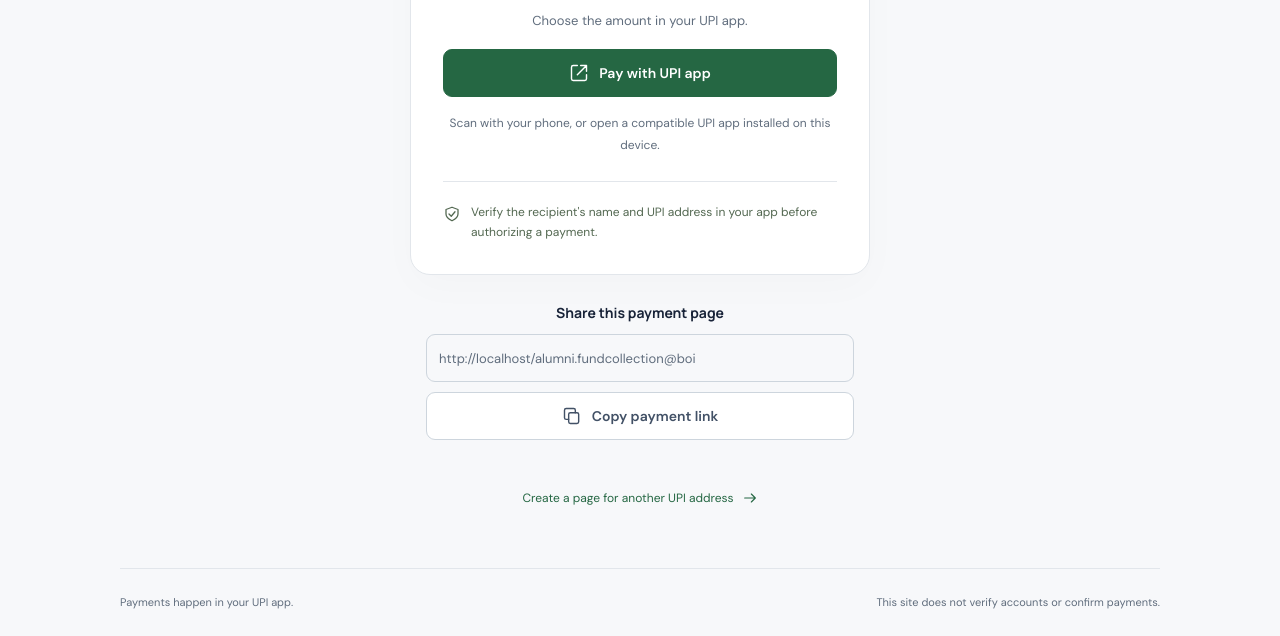
Test: direct payment pages › copies the shareable HTTP page URL, not the UPI app URI
(page scrolled)
Click the button "Copy payment link": coordinates (640, 416) [426,392,854,440]
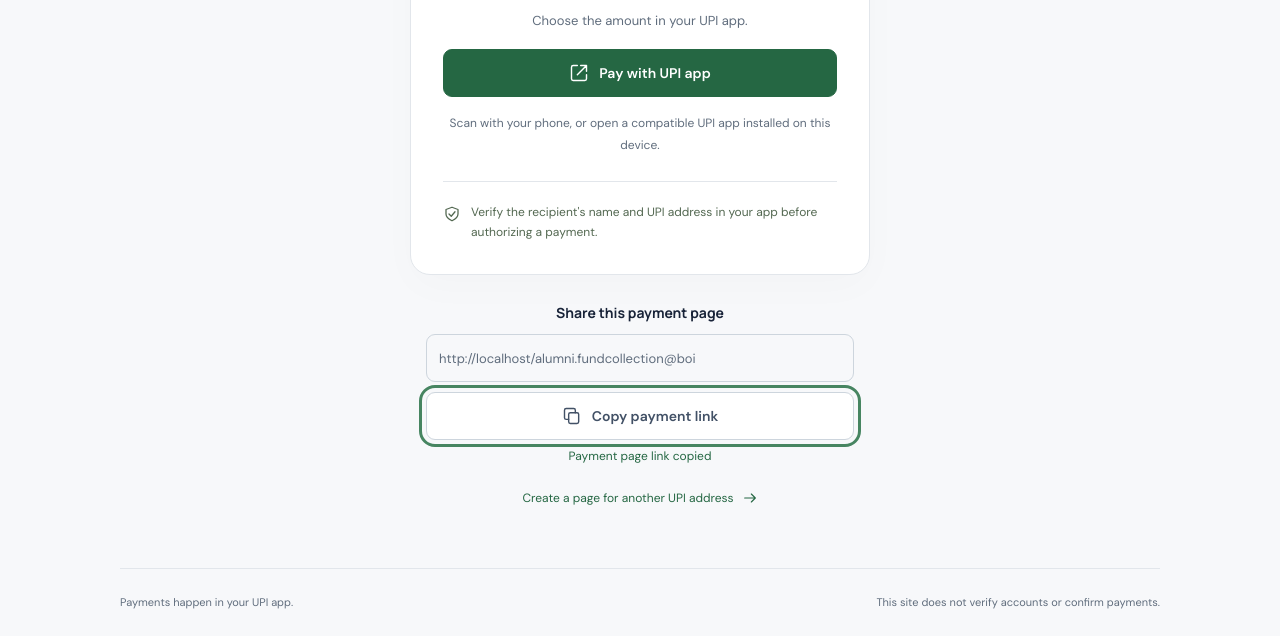
Check: the text "Payment page link copied" is shown, box [568,448,711,464]
